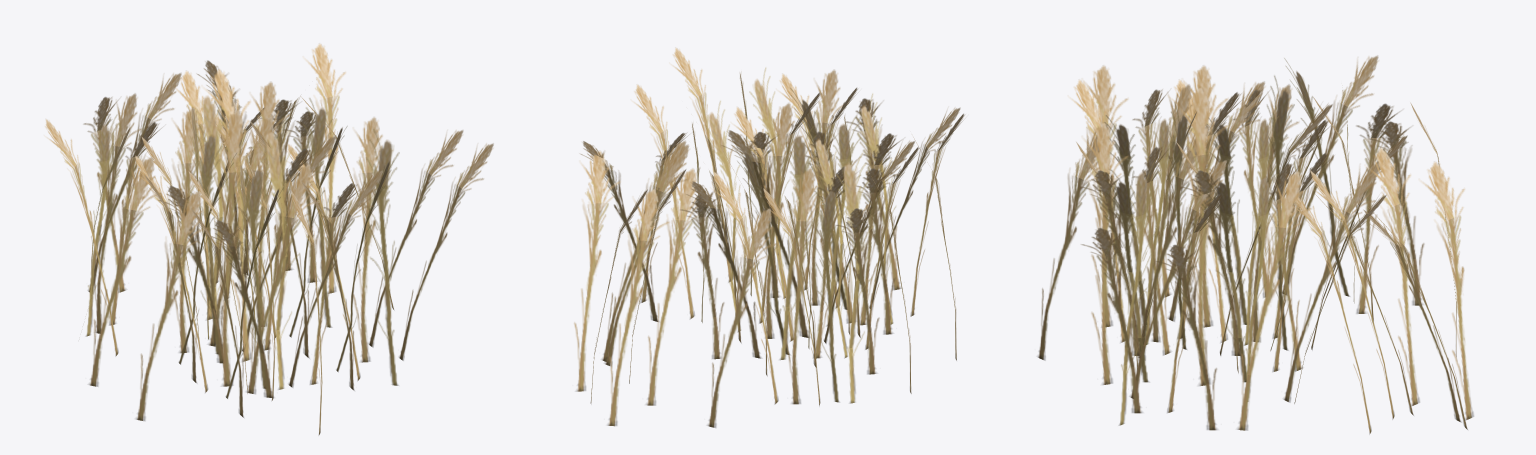
The model's file is wheat.glb.
3 views of the same model, side by side, from view 1: azimuth 30°, elevation 25°; view 2: azimuth 150°, elevation 25°; view 3: azimuth 270°, elevation 25° (orthographic). The views are drawn at different scales.
Visible parts, largest first — view 1: wheat2.004; view 2: wheat2.004; view 3: wheat2.004.
Boxes of the visible parts, x1=… form: wheat2.004: x1=45, y1=43, x2=493, y2=434; wheat2.004: x1=574, y1=47, x2=964, y2=427; wheat2.004: x1=1037, y1=55, x2=1473, y2=434.
Bounding box in the file's own units: 0.3979 × 0.3048 × 0.4216.
Materials: 1 (1 with a texture image).
